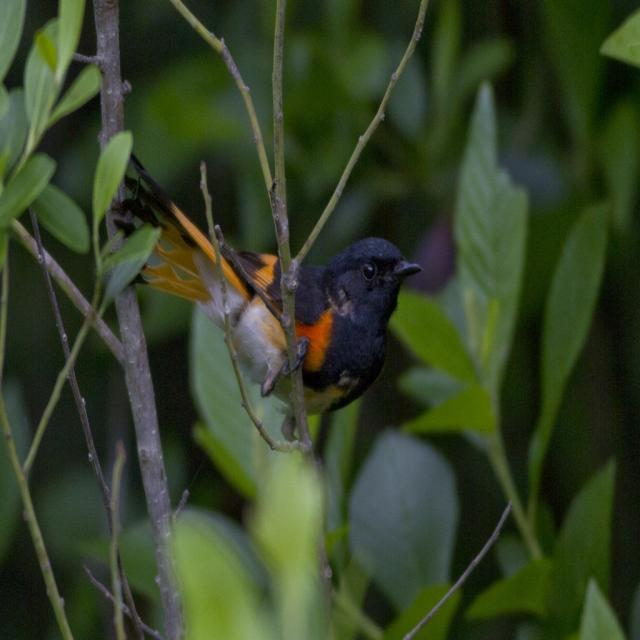bird: (94, 133, 423, 470)
